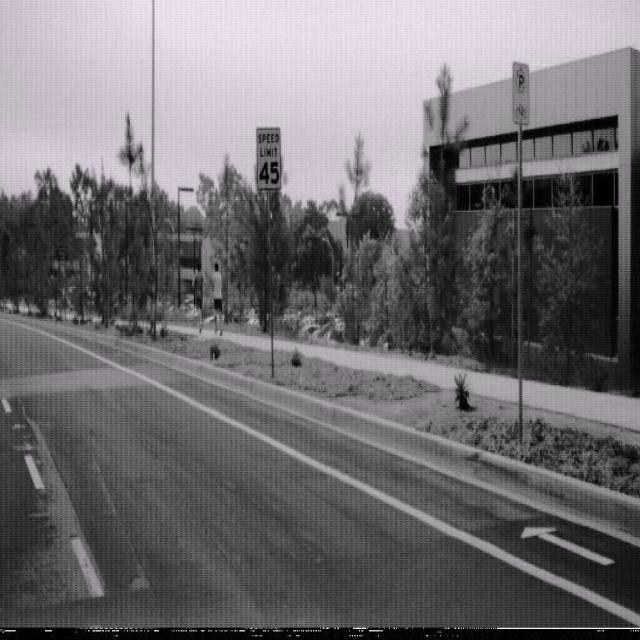speedLimit45: (255, 125, 283, 191)
